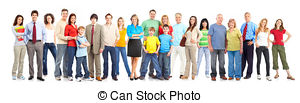face: (100, 9, 116, 25), (127, 12, 141, 27), (226, 15, 240, 30), (271, 17, 286, 31), (212, 11, 226, 25), (241, 9, 255, 23), (198, 16, 211, 30), (29, 7, 40, 23), (159, 14, 175, 25), (187, 13, 198, 29), (11, 14, 25, 26), (67, 13, 79, 26), (257, 17, 269, 30), (43, 11, 54, 25), (58, 7, 69, 20), (76, 25, 87, 38), (173, 11, 184, 24), (116, 15, 127, 27), (147, 8, 158, 20), (160, 23, 171, 35), (88, 14, 98, 26), (147, 26, 157, 37)
